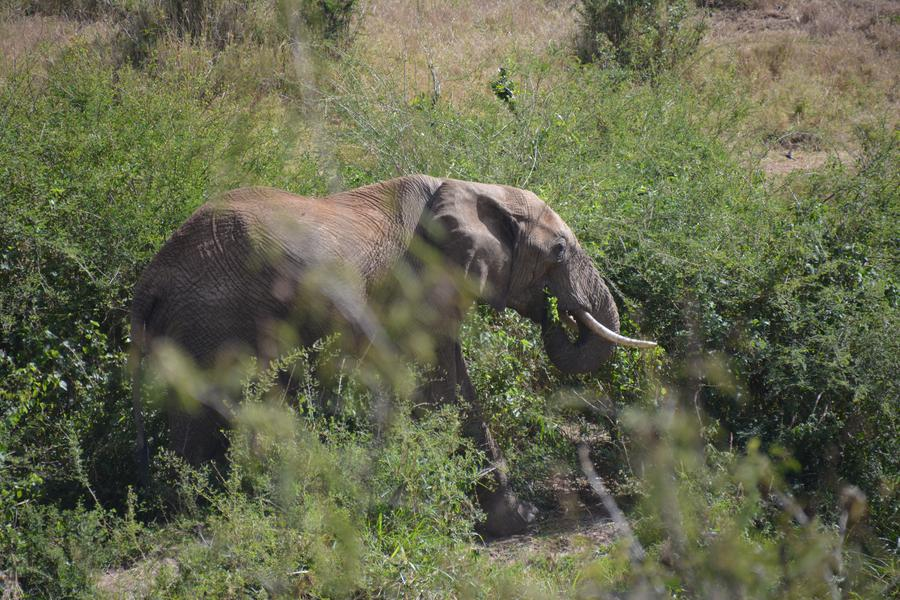elephant: (135, 187, 578, 503)
